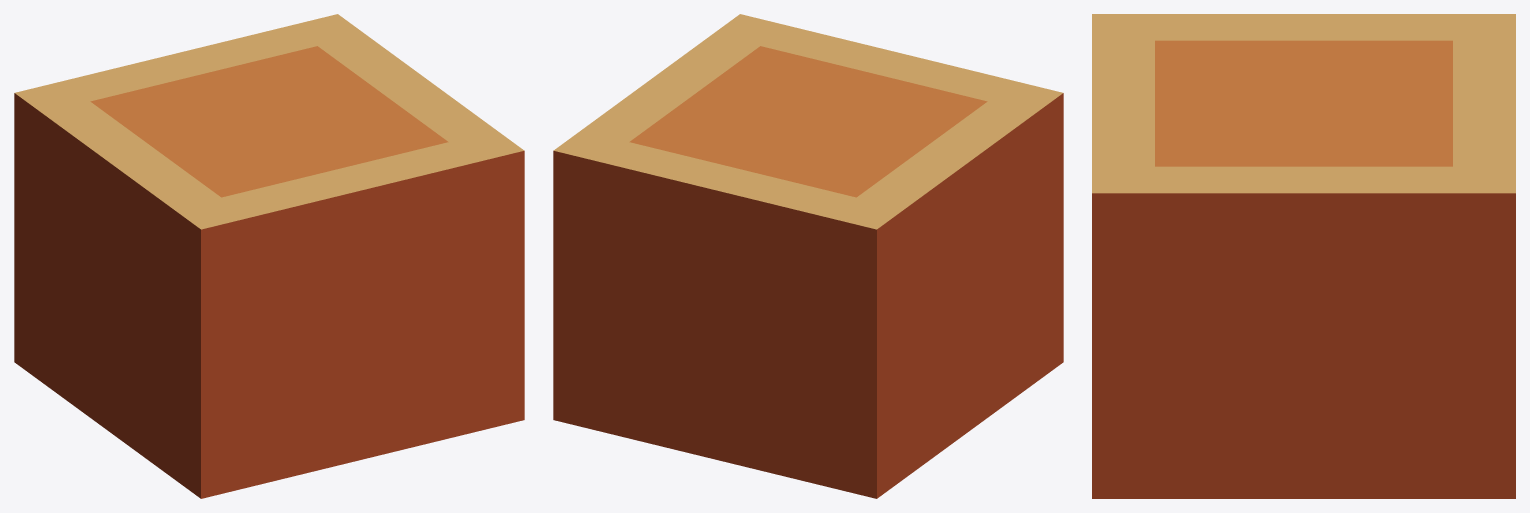
File: TrunkB.fbx
3 renders of one model, left to right at view 1: azimuth 30°, elevation 25°; view 2: azimuth 150°, elevation 25°; view 3: azimuth 270°, elevation 25°, orthographic. The views are drawn at different scales.
Visible parts, largest first — view 1: TrunkB; view 2: TrunkB; view 3: TrunkB.
Part boxes in pixels (box(x1,y1,x2,y2)): TrunkB: box(14, 14, 524, 498); TrunkB: box(553, 14, 1063, 498); TrunkB: box(1092, 14, 1515, 498).
Bounding box in the file's own units: 50 × 39.79 × 50.
